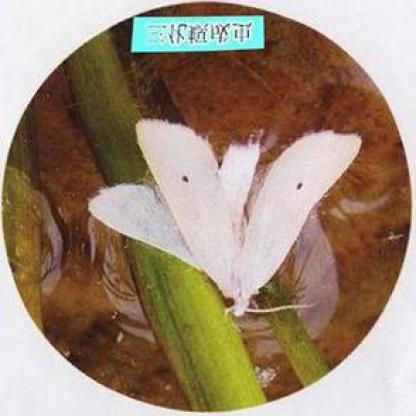stem-borer: (87, 119, 362, 319)
